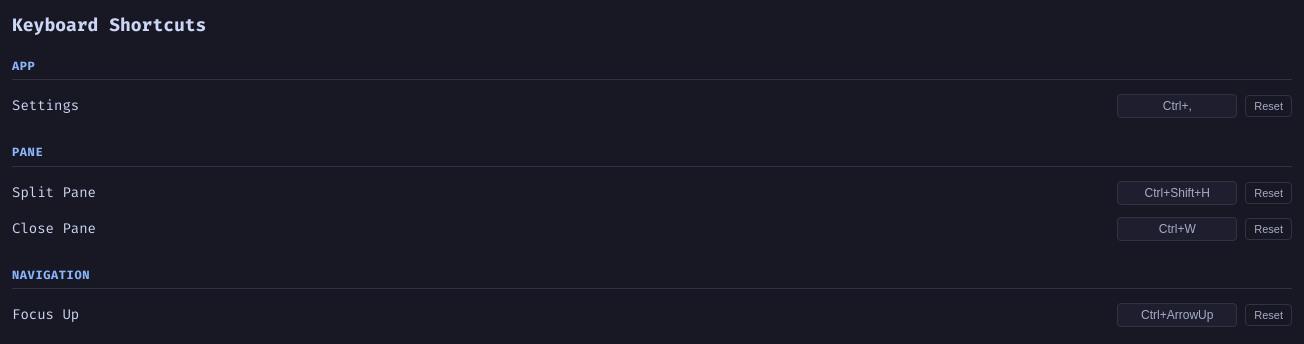
Scenario: KeybindingEditor › cancels recording mode on Escape
# Enter recording mode
Click the button "Ctrl+Shift+H": (1177, 193) [1117,181,1237,205]
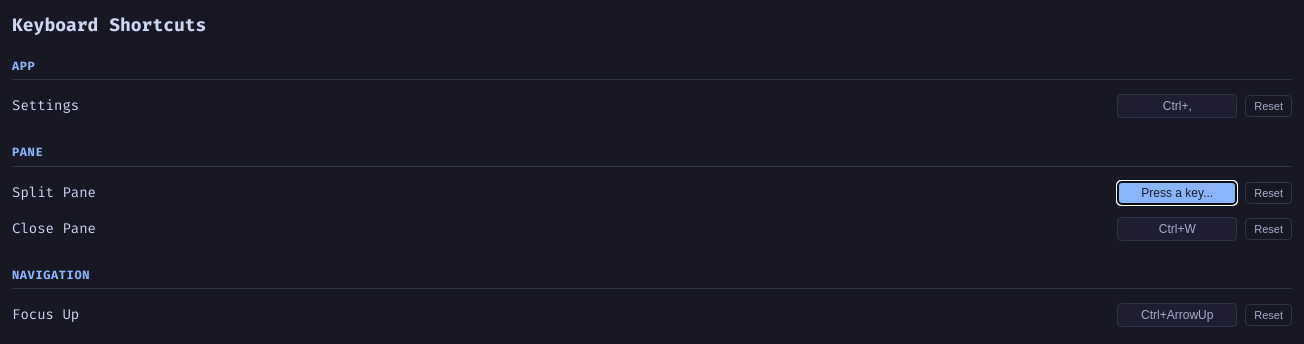
Check: the button "Press a key..." is shown, box [1117,181,1237,205]
# Press Escape to cancel
Press Escape
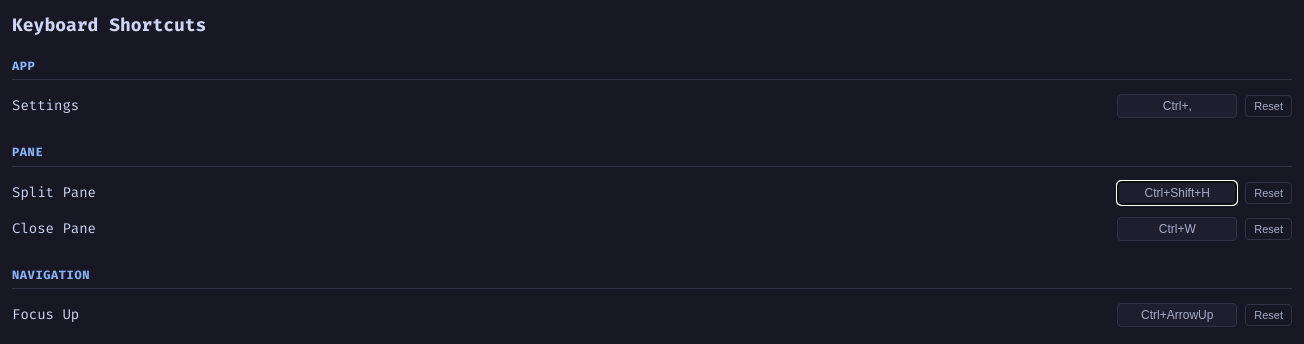
Check: the button "Press a key" is gone
